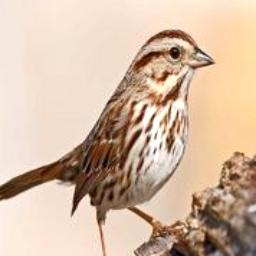Sparrow: (0, 26, 219, 256)
